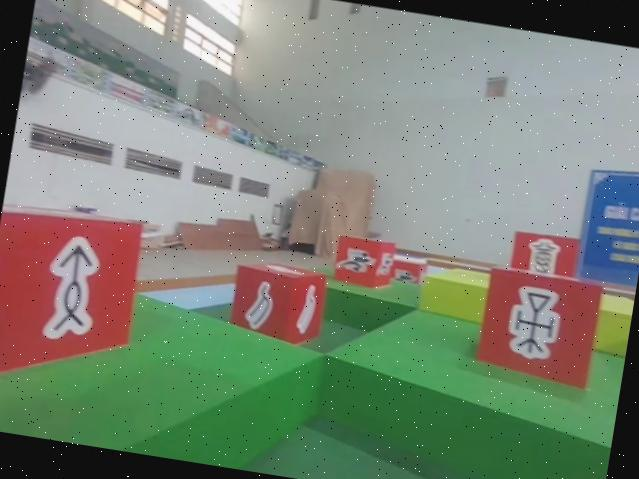R1: (329, 230, 399, 290)
R2 Fake: (505, 226, 583, 289)
R2 Real: (0, 195, 150, 402), (468, 261, 610, 398), (220, 255, 331, 354)
